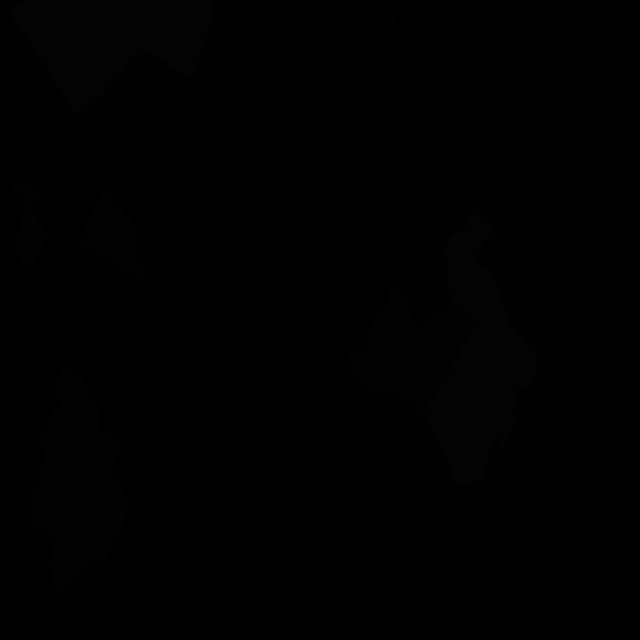cardboard: (349, 289, 474, 417), (30, 367, 118, 537), (51, 475, 132, 597), (71, 189, 148, 282), (9, 179, 46, 269)
rigid_plastic: (262, 0, 400, 64)
soft_plastic: (424, 205, 537, 487), (12, 0, 214, 116)
